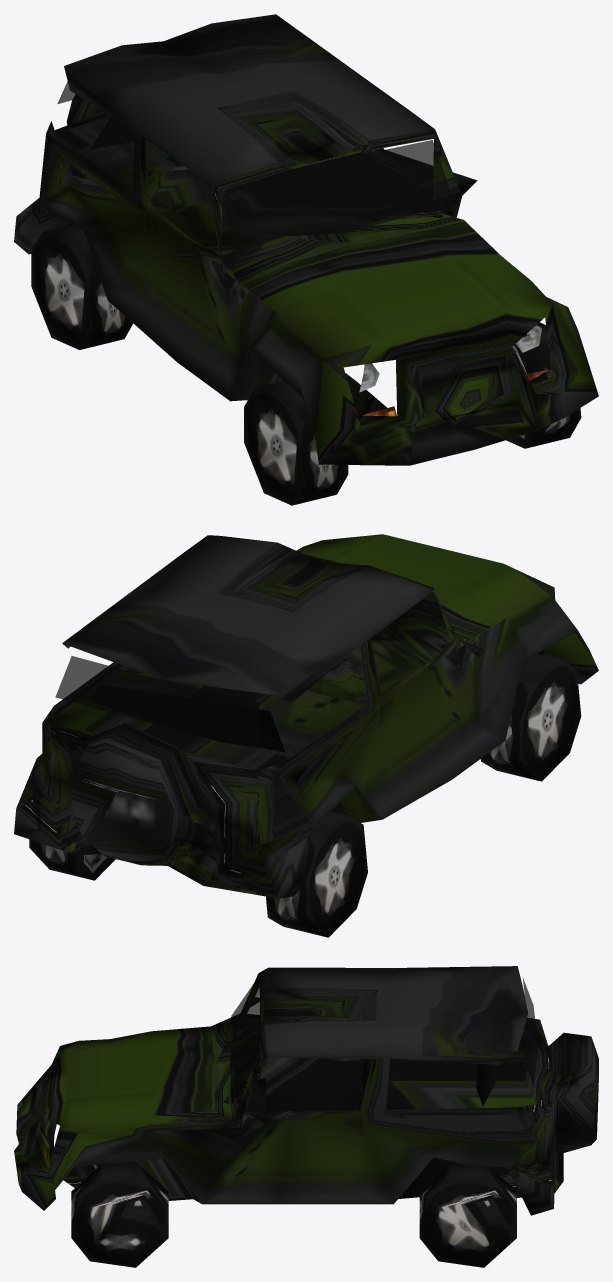
File: offroad_far.glb
3 renders of one model, top to bottom at view 1: azimuth 30°, elevation 25°; view 2: azimuth 150°, elevation 25°; view 3: azimuth 270°, elevation 25°, orthographic. The views are drawn at different scales.
Visible parts, largest first — view 1: body, wheel_fr, wheel_rr, wheel_fl; view 2: body, wheel_fr, wheel_rr, wheel_rl; view 3: body, wheel_fl, wheel_rl.
Boxes of the visible parts, box(x1,y1,x2,y2) form: body: box(14, 14, 598, 465); wheel_fr: box(244, 380, 348, 505); wheel_rr: box(31, 224, 133, 349); wheel_fl: box(506, 322, 581, 448); body: box(14, 534, 598, 898); wheel_fr: box(480, 654, 581, 781); wheel_rr: box(266, 811, 367, 937); wheel_rl: box(29, 839, 115, 880); body: box(14, 966, 598, 1215); wheel_fl: box(71, 1161, 168, 1267); wheel_rl: box(419, 1161, 516, 1267).
Bounding box in the file's own units: 2.12 × 1.68 × 4.25.
Materials: 4 (3 with a texture image).
